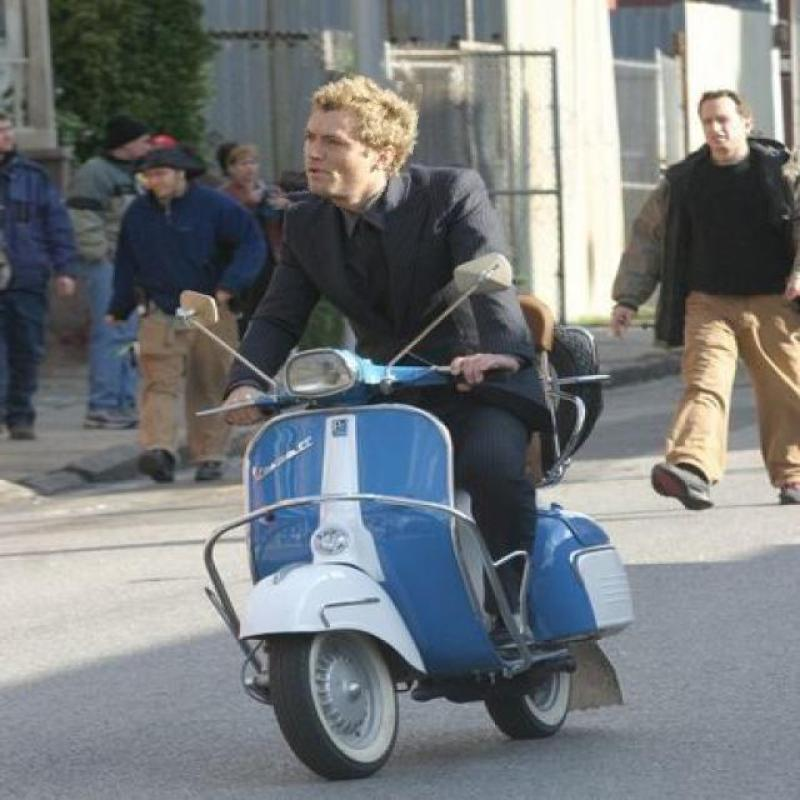nohelmet: (282, 69, 419, 213)
